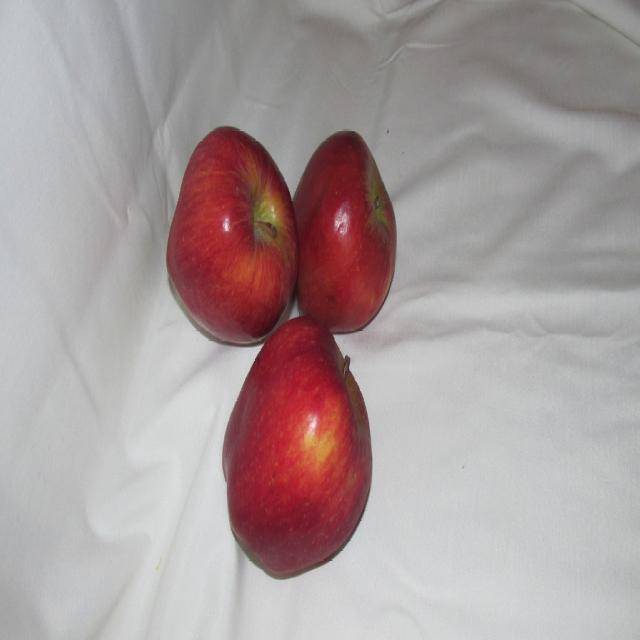Healty Apple: (219, 315, 373, 575), (164, 126, 300, 348), (294, 128, 397, 334)
